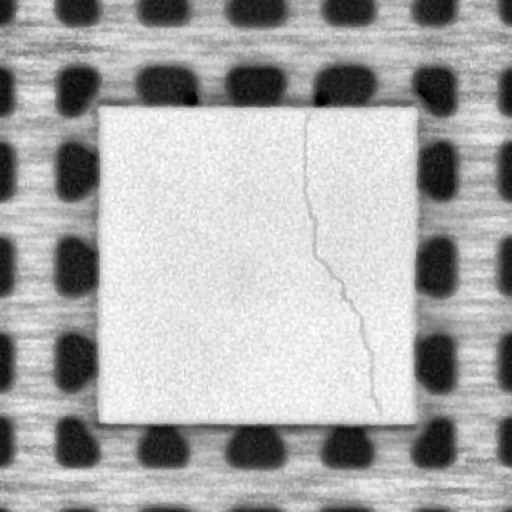DIE_CRACK: (298, 109, 381, 411)
